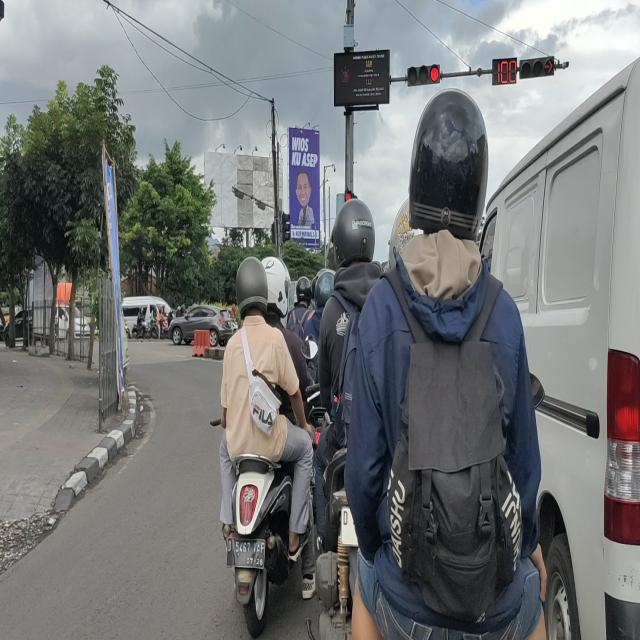helmet: (408, 85, 489, 238), (330, 199, 374, 269), (234, 258, 267, 315), (263, 256, 288, 319), (296, 276, 312, 312)
